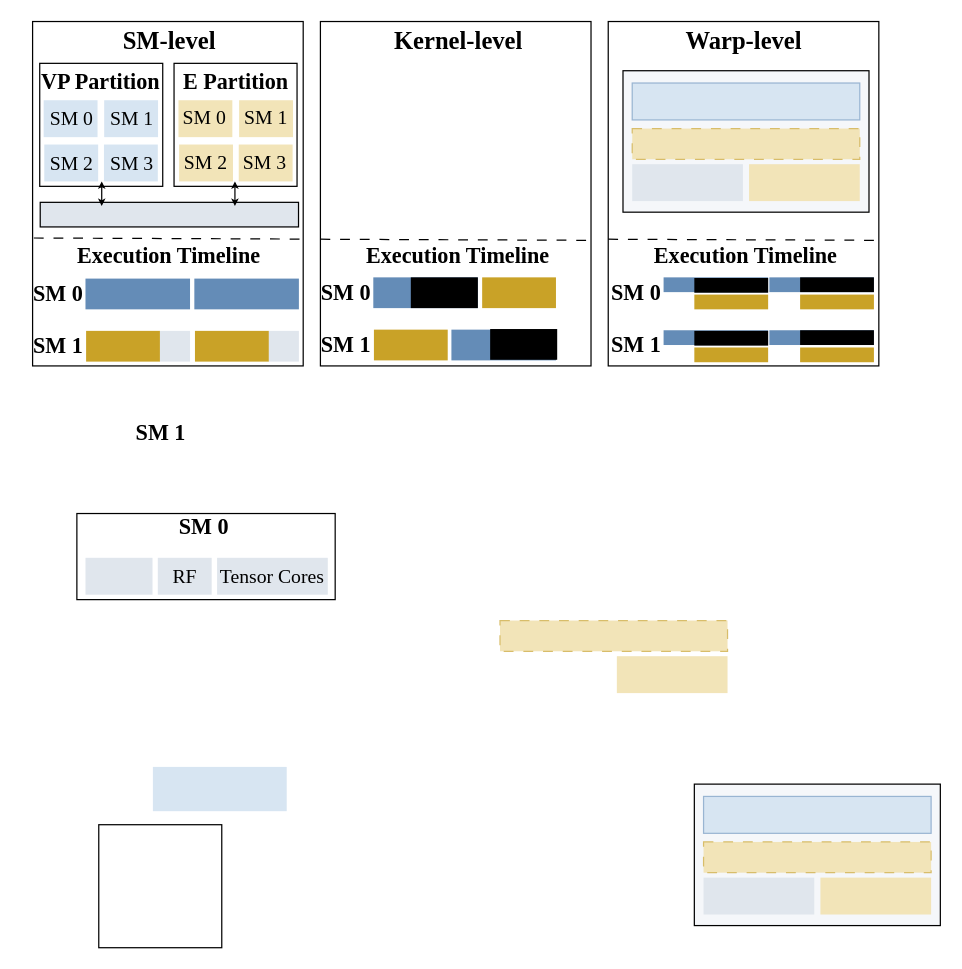
Some shapes in this 962 by 969 pixel diagram are drawn without their labels. Each missing label, with the centre of its shape:
"Shared L2 Cache" goes at point (169, 214).
"SMEM" goes at point (118, 575).
"VP CTA" goes at point (219, 788).
